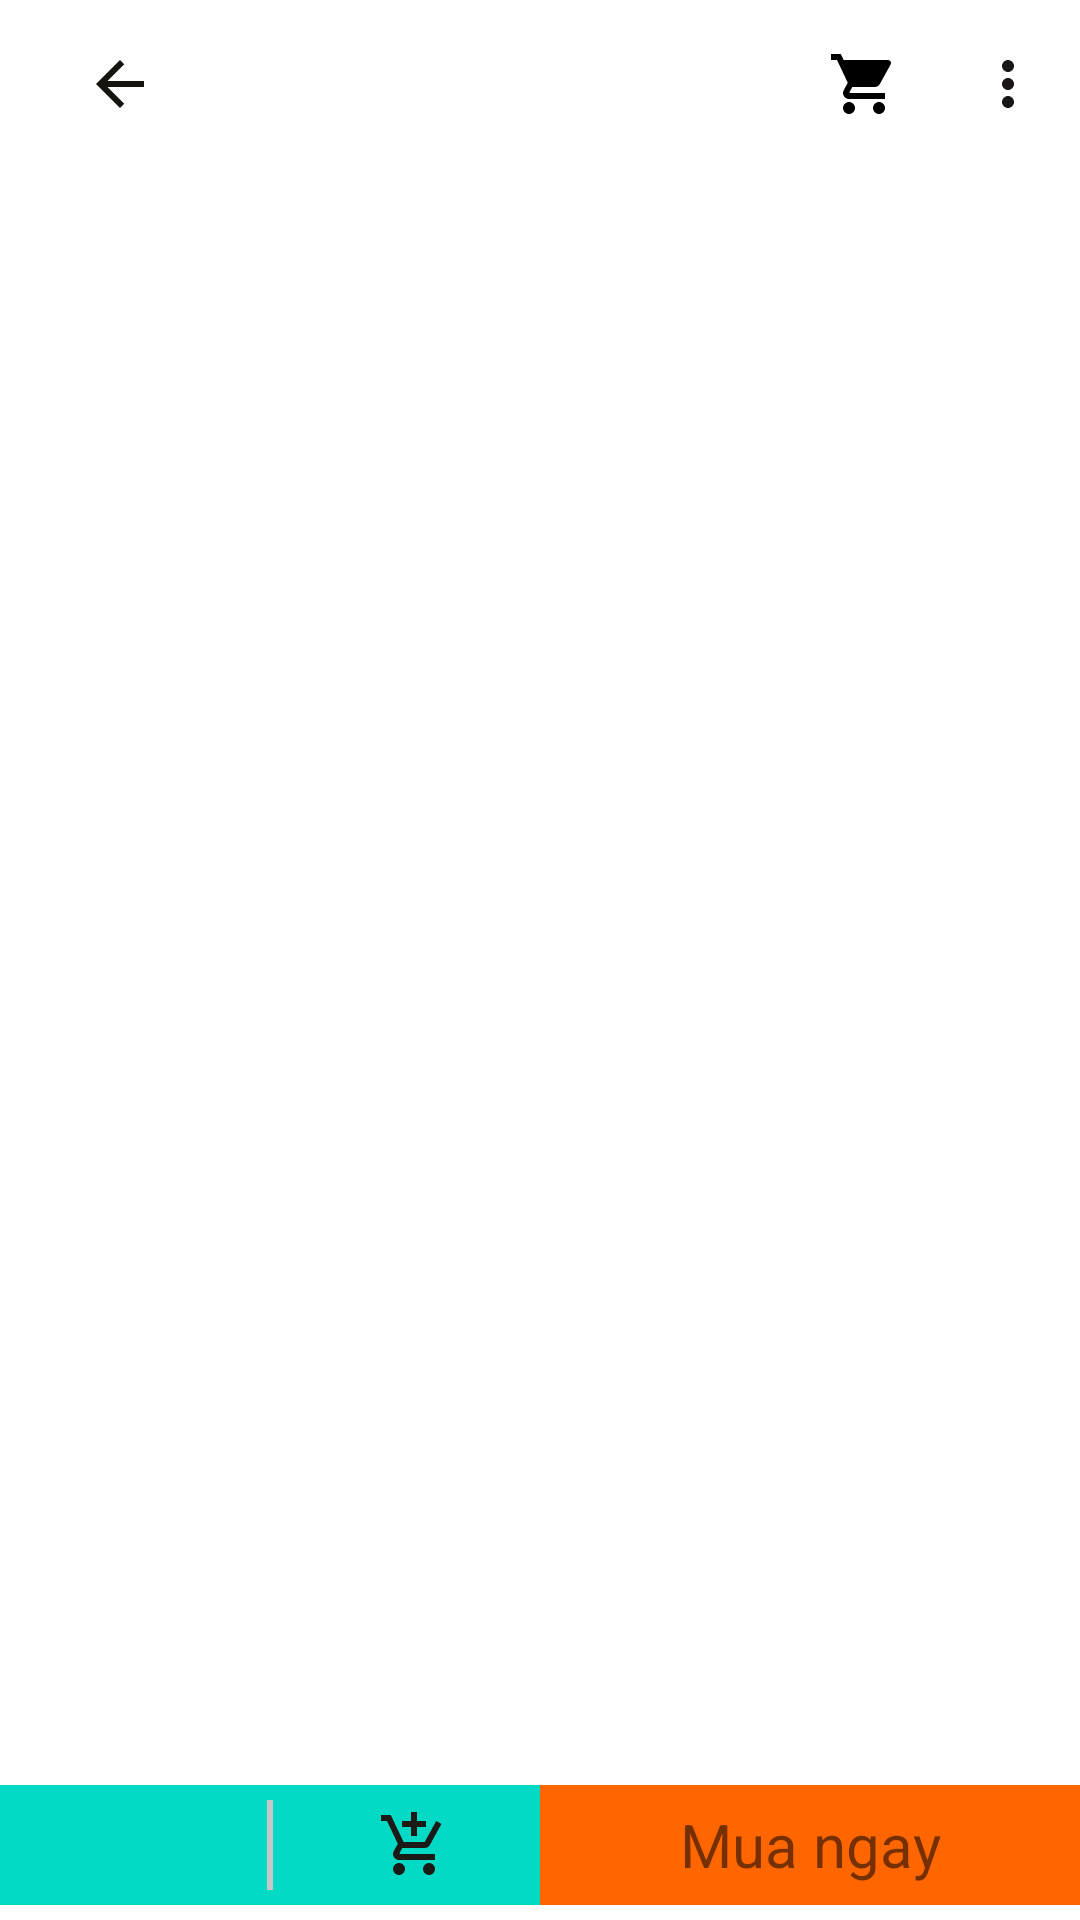

Screen size 1080*1920. Icon name, then its center in pixels as (x,y):
add shopping cart: (414,1845)
arrow back: (120,84)
